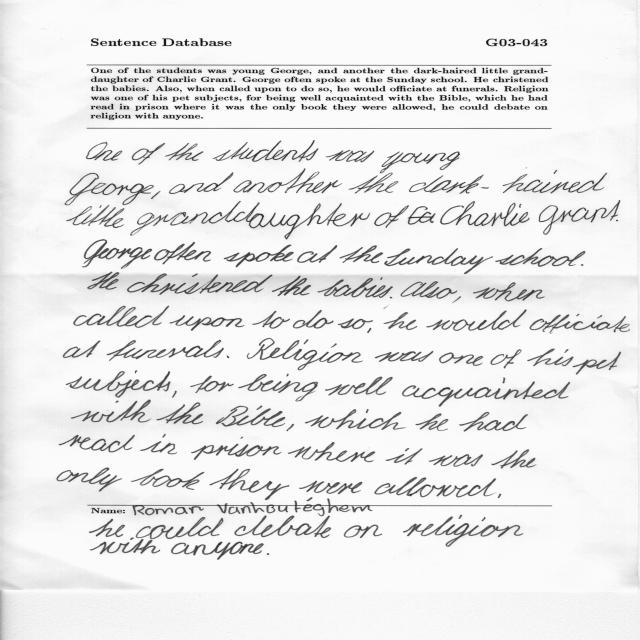word: (130, 201, 370, 239), (402, 377, 570, 407), (409, 170, 607, 194), (247, 339, 363, 371), (127, 273, 272, 295), (408, 201, 530, 227), (66, 370, 171, 398), (65, 173, 154, 205), (539, 200, 620, 235), (384, 248, 493, 274), (234, 169, 343, 194), (59, 435, 135, 469), (210, 469, 290, 500), (107, 340, 224, 361), (375, 477, 497, 497), (213, 140, 318, 162), (238, 374, 318, 402), (426, 309, 527, 331), (305, 409, 406, 430), (83, 239, 153, 269), (191, 437, 282, 460), (74, 306, 169, 328), (529, 314, 630, 333), (71, 400, 151, 423), (380, 152, 460, 174), (288, 442, 375, 462), (495, 248, 585, 267), (224, 245, 294, 268), (317, 277, 393, 298), (131, 469, 204, 490), (57, 469, 122, 492), (216, 406, 285, 427), (295, 481, 363, 502), (169, 172, 233, 194), (459, 412, 528, 432), (473, 283, 544, 302), (67, 205, 124, 228), (325, 377, 393, 396), (154, 242, 211, 264), (170, 315, 244, 331), (573, 352, 621, 375), (338, 307, 387, 329), (349, 173, 399, 194), (401, 281, 458, 299), (157, 402, 203, 424), (492, 450, 537, 469), (374, 205, 409, 228), (528, 349, 574, 366), (272, 276, 311, 296), (340, 245, 383, 263), (190, 376, 234, 393), (140, 434, 177, 454), (293, 310, 334, 328), (297, 245, 337, 263), (165, 143, 204, 161), (429, 454, 483, 467), (132, 143, 165, 164), (87, 142, 123, 161), (252, 311, 290, 329), (64, 340, 101, 358), (375, 351, 433, 362), (386, 448, 423, 465), (439, 352, 483, 366), (384, 312, 417, 330), (416, 413, 449, 431), (491, 350, 522, 369), (326, 150, 374, 162), (88, 272, 119, 290), (151, 191, 161, 199), (452, 297, 461, 304), (287, 424, 295, 431), (172, 391, 177, 398), (367, 328, 372, 333), (498, 494, 501, 498), (227, 355, 229, 358), (581, 264, 583, 266), (616, 220, 618, 221), (390, 297, 392, 298)
